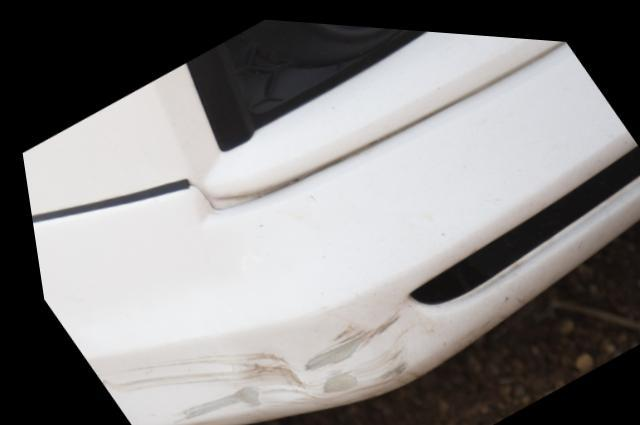scratch: (83, 305, 398, 425)
